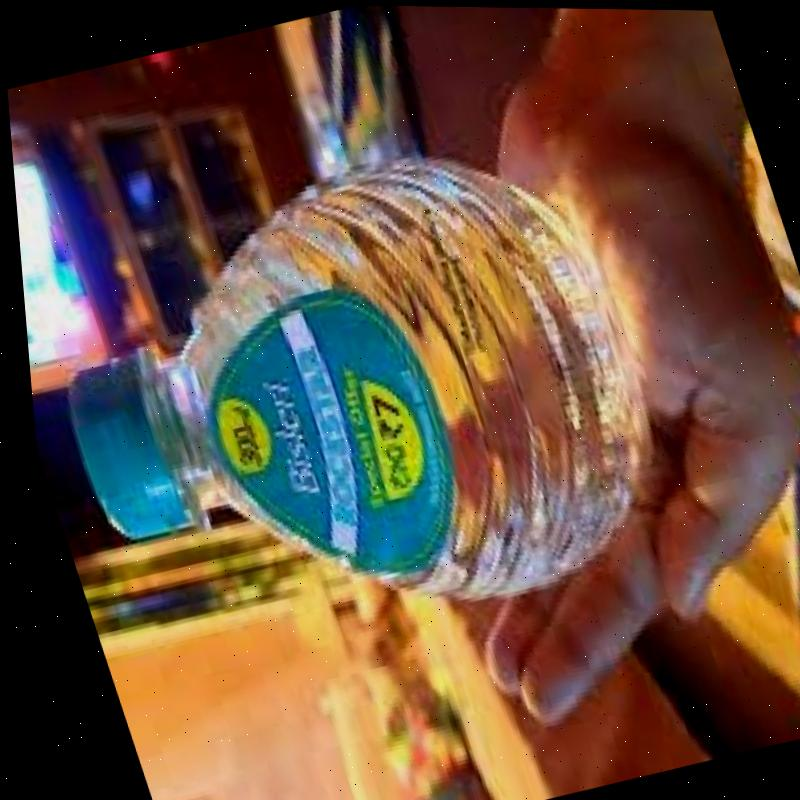botella: (7, 113, 690, 690)
